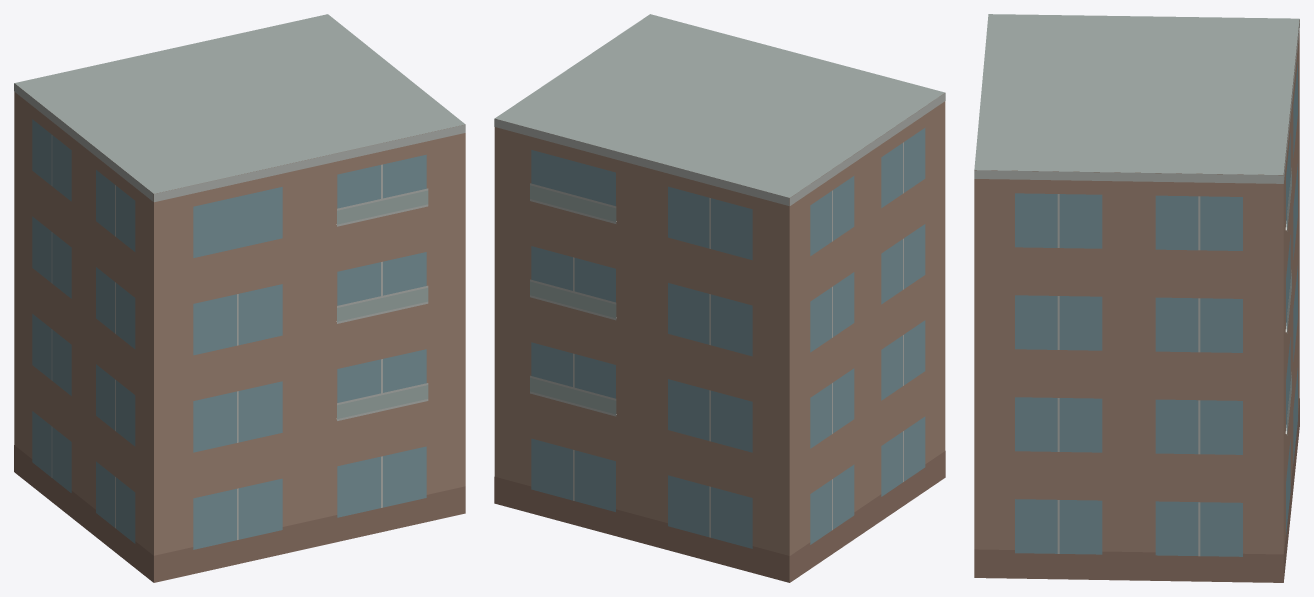
The model's file is survey-upis-32921461.glb.
3 renders of one model, left to right at view 1: azimuth 30°, elevation 25°; view 2: azimuth 150°, elevation 25°; view 3: azimuth 270°, elevation 25°, orthographic. The views are drawn at different scales.
Parts seen in each view (by area): view 1: survey-upis-32921461.tmp; view 2: survey-upis-32921461.tmp; view 3: survey-upis-32921461.tmp.
Part boxes in pixels (x1,y1,x2,y2): survey-upis-32921461.tmp: (14, 14, 465, 582); survey-upis-32921461.tmp: (494, 14, 945, 582); survey-upis-32921461.tmp: (974, 14, 1299, 582).
Size of the model in its own units: 9.54 by 11.25 by 8.15.
